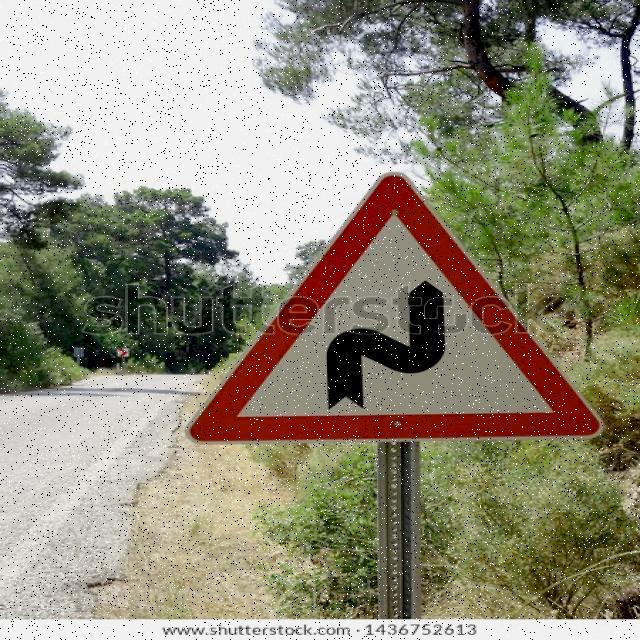Traffic sign: (178, 164, 609, 448)
